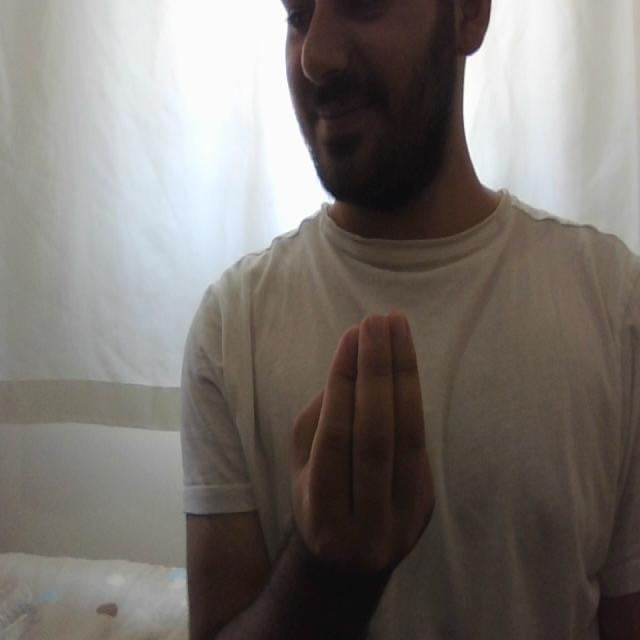iyi: (286, 297, 443, 565)
